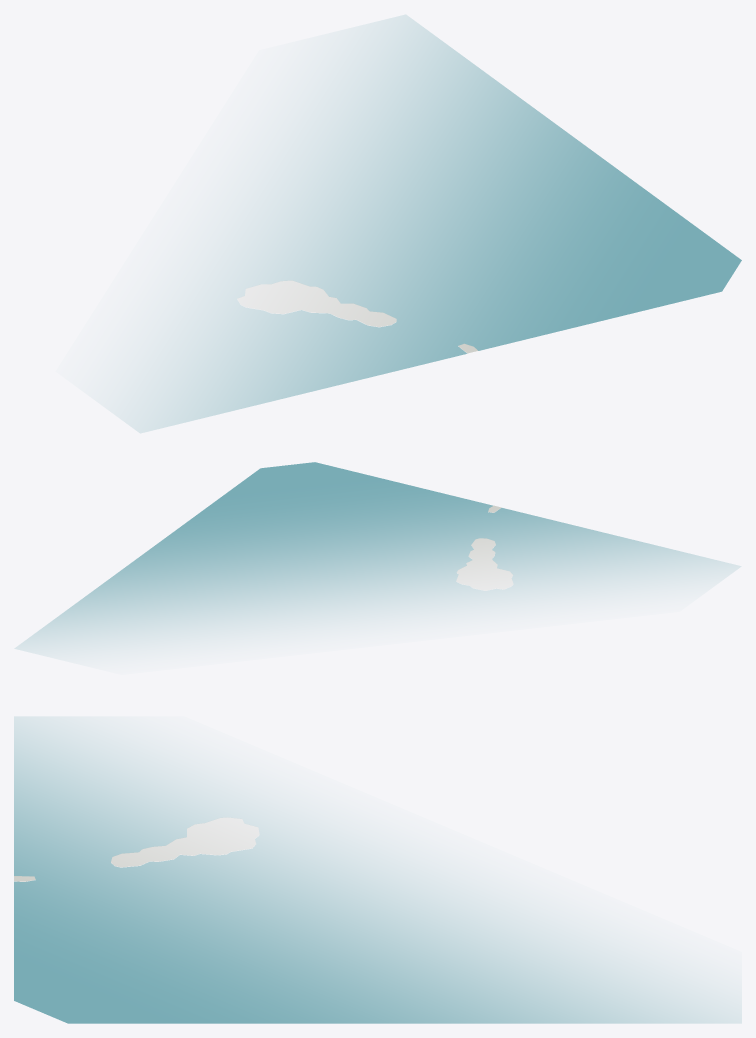
3 renders of one model, top to bottom at view 1: azimuth 30°, elevation 25°; view 2: azimuth 150°, elevation 25°; view 3: azimuth 270°, elevation 25°, orthographic. The views are drawn at different scales.
Parts seen in each view (by area): view 1: city; view 2: city; view 3: city.
Boxes of the visible parts, x1,y1,x2,y2 form: city: (117, 15, 741, 432); city: (15, 462, 740, 655); city: (14, 717, 741, 1023).
Size of the model in its own units: 500 by 0.18 by 500.
